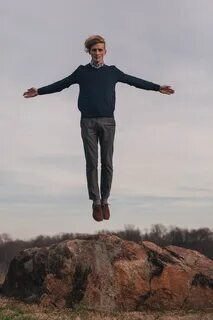awake: (22, 34, 176, 223)
